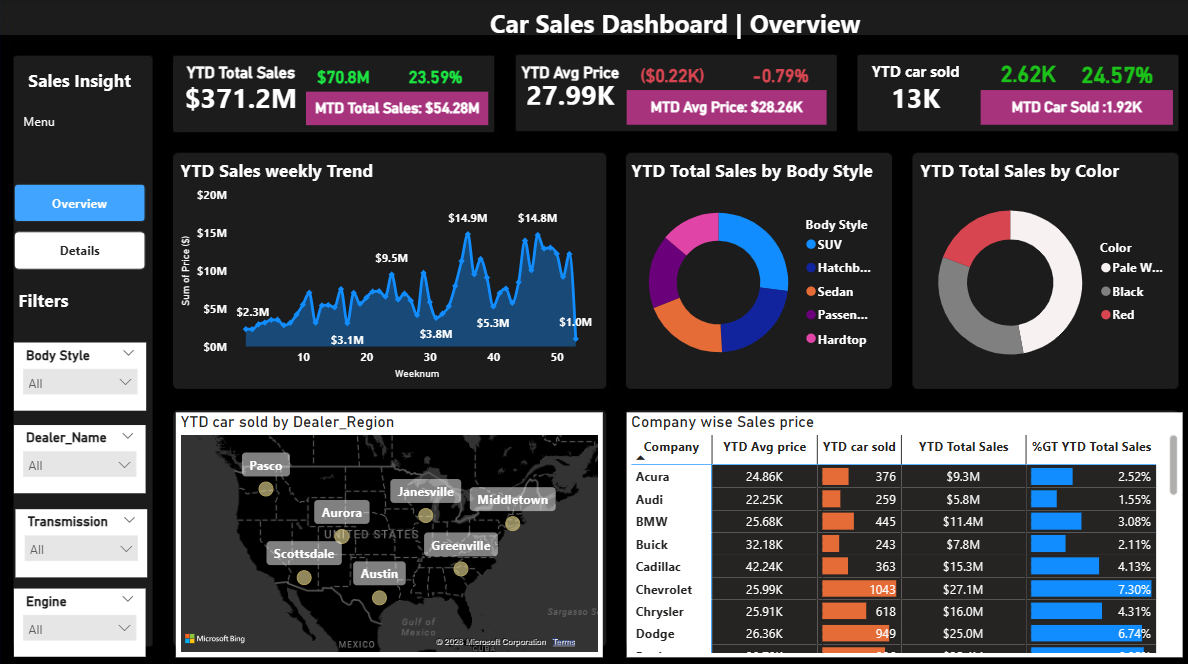

The page's visual inventory and layout, read from the dashboard file:
{"tool":"powerbi","page":{"name":"Overview","canvas":[1280,720],"ordinal":0},"visuals":[{"type":"card","title":"YTD Total Sales","fields":{"Values":["Measure.YTD Total Sales"]},"box":[190.5,69.7,139.4,56.1],"z":0},{"type":"card","fields":{"Values":["Measure.Diff YTD AND PYTD"]},"box":[329.9,68,79.9,33],"z":1000},{"type":"card","fields":{"Values":["Measure.YOY Growth"]},"box":[428.5,68,79.9,33],"z":2000},{"type":"card","fields":{"Values":["Measure.MTD KPI"]},"box":[329.9,100.3,195.6,35.7],"z":3000},{"type":"card","title":"YTD Avg Price","fields":{"Values":["Avg Measure.YTD Avg price"]},"box":[552.7,69.7,120.7,50],"z":4000},{"type":"card","fields":{"Values":["Avg Measure.Avg Diff YTD and PYTD"]},"box":[673.4,68,98,31],"z":5000},{"type":"card","fields":{"Values":["Avg Measure.Avg Growth YOY"]},"box":[789.1,68,98,31],"z":6000},{"type":"card","fields":{"Values":["Avg Measure.MTD avg kpi"]},"box":[673.4,98.6,214.3,37.4],"z":7000},{"type":"card","title":"YTD car sold","fields":{"Values":["Car Sold Measure.YTD car sold"]},"box":[925.1,68,115.6,57.8],"z":8000},{"type":"card","fields":{"Values":["Car Sold Measure.Diff YTD and PYTD Sold"]},"box":[1067,67,74.8,29],"z":9000},{"type":"card","fields":{"Values":["Car Sold Measure.YOY Car Sold Groth"]},"box":[1150,68,98.6,28],"z":10000},{"type":"card","fields":{"Values":["Car Sold Measure.MTD Car Sold kpi"]},"box":[1052.6,98.6,205.8,37.4],"z":11000},{"type":"areaChart","title":"YTD Sales weekly Trend","fields":{"Category":["Calender Tabel.Weeknum"],"Y":["Sum(car_data.Price ($))"]},"box":[190.5,171.8,457,241.5],"z":12000},{"type":"donutChart","fields":{"Category":["car_data.Body Style"],"Y":["Measure.YTD Total Sales"]},"box":[673.4,171.8,285.7,241.5],"z":13000},{"type":"donutChart","fields":{"Y":["Measure.YTD Total Sales"],"Category":["car_data.Color"]},"box":[982.9,171.8,285.7,241.5],"z":14000},{"type":"map","fields":{"Category":["car_data.Dealer_Region"],"X":["Car Sold Measure.YTD car sold"]},"box":[190.5,443.8,457.4,261.9],"z":15000},{"type":"pivotTable","title":"Company wise Sales price","fields":{"Rows":["car_data.Company"],"Values":["Avg Measure.YTD Avg price","Car Sold Measure.YTD car sold","Measure.YTD Total Sales","Divide(Measure.YTD Total Sales, ScopedEval(Measure.YTD Total Sales, []))"]},"box":[673.4,443.8,595.2,261.9],"z":16000},{"type":"textbox","box":[491.5,3.4,467.7,51],"z":17000},{"type":"slicer","fields":{"Values":["car_data.Body Style"]},"box":[17,369,142,73],"z":18000},{"type":"slicer","fields":{"Values":["car_data.Dealer_Name"]},"box":[17,457.4,141.1,73.1],"z":19000},{"type":"slicer","fields":{"Values":["car_data.Transmission"]},"box":[18.7,547,141.1,73.1],"z":20000},{"type":"slicer","fields":{"Values":["car_data.Engine"]},"box":[17,632.6,141.1,73.1],"z":21000},{"type":"textbox","box":[17,306.1,136,54.4],"z":22000},{"type":"pageNavigator","box":[17,199,141.1,93.5],"z":23000},{"type":"textbox","box":[22.1,69.7,136,47.6],"z":24000},{"type":"textbox","box":[22.1,117.3,59.5,30.6],"z":25000}]}

Visuals, with their boxes in screenshot pixels (x1, y1, x2, y2), scaled from the page's 1280x720 canvas onto the 1188x664 screenshot:
"YTD Total Sales" card: left=177, top=64, right=306, bottom=116
card - Measure.Diff YTD AND PYTD: left=306, top=63, right=380, bottom=93
card - Measure.YOY Growth: left=398, top=63, right=472, bottom=93
card - Measure.MTD KPI: left=306, top=92, right=488, bottom=125
"YTD Avg Price" card: left=513, top=64, right=625, bottom=110
card - Avg Measure.Avg Diff YTD and PYTD: left=625, top=63, right=716, bottom=91
card - Avg Measure.Avg Growth YOY: left=732, top=63, right=823, bottom=91
card - Avg Measure.MTD avg kpi: left=625, top=91, right=824, bottom=125
"YTD car sold" card: left=859, top=63, right=966, bottom=116
card - Car Sold Measure.Diff YTD and PYTD Sold: left=990, top=62, right=1060, bottom=89
card - Car Sold Measure.YOY Car Sold Groth: left=1067, top=63, right=1159, bottom=89
card - Car Sold Measure.MTD Car Sold kpi: left=977, top=91, right=1168, bottom=125
"YTD Sales weekly Trend" areaChart: left=177, top=158, right=601, bottom=381
donutChart - car_data.Body Style x Measure.YTD Total Sales: left=625, top=158, right=890, bottom=381
donutChart - Measure.YTD Total Sales x car_data.Color: left=912, top=158, right=1177, bottom=381
map - car_data.Dealer_Region x Car Sold Measure.YTD car sold: left=177, top=409, right=601, bottom=651
"Company wise Sales price" pivotTable: left=625, top=409, right=1177, bottom=651
textbox: left=456, top=3, right=890, bottom=50
slicer - car_data.Body Style: left=16, top=340, right=148, bottom=408
slicer - car_data.Dealer_Name: left=16, top=422, right=147, bottom=489
slicer - car_data.Transmission: left=17, top=504, right=148, bottom=572
slicer - car_data.Engine: left=16, top=583, right=147, bottom=651
textbox: left=16, top=282, right=142, bottom=332
pageNavigator: left=16, top=184, right=147, bottom=270
textbox: left=21, top=64, right=147, bottom=108
textbox: left=21, top=108, right=76, bottom=136
